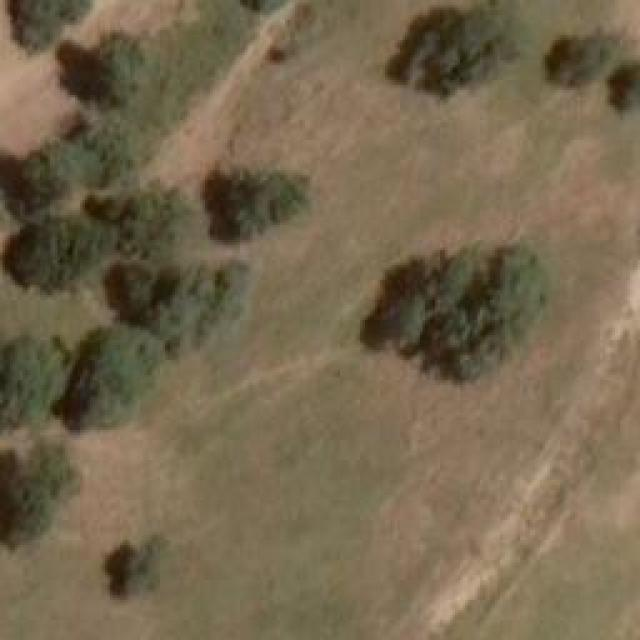Tree: (378, 240, 531, 378), (118, 260, 251, 348), (65, 322, 163, 430), (398, 3, 508, 93), (8, 215, 108, 288), (0, 442, 72, 539), (202, 173, 300, 238), (0, 335, 58, 440), (98, 185, 181, 253), (0, 140, 82, 207), (88, 30, 153, 108), (5, 0, 90, 42), (553, 30, 613, 85), (112, 540, 160, 598), (610, 55, 640, 108)
